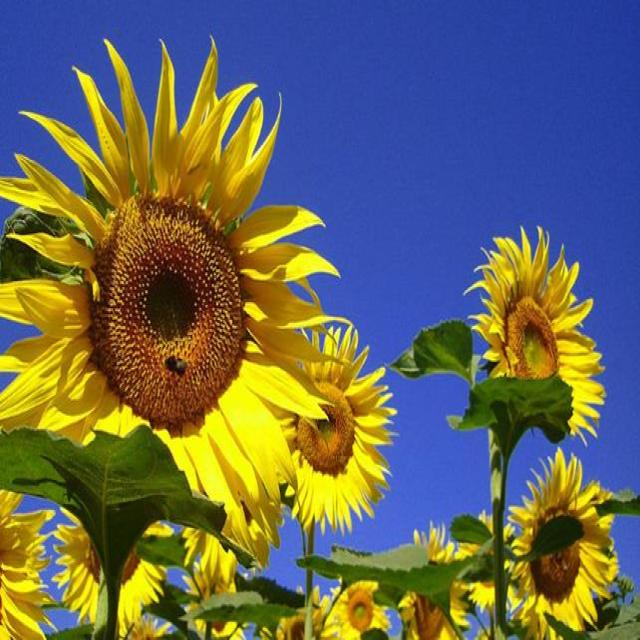sunflower: (4, 29, 348, 515), (468, 198, 617, 457), (265, 314, 401, 549), (487, 439, 633, 640), (54, 502, 188, 620), (387, 520, 476, 640), (328, 568, 396, 640)
